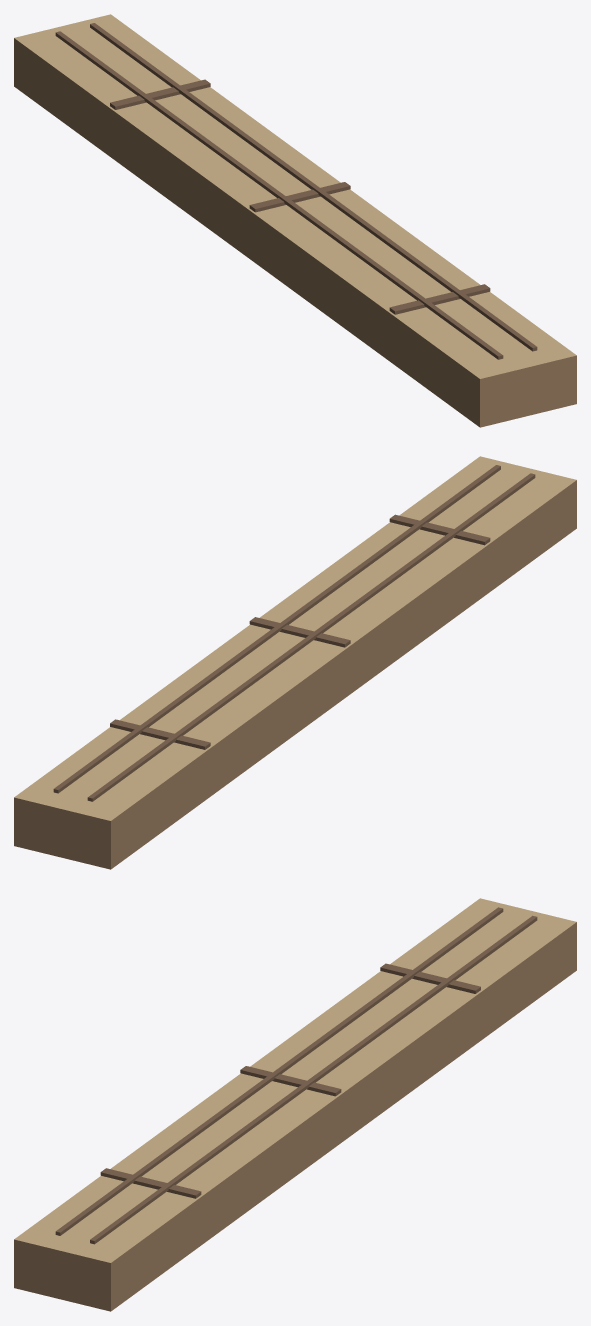
The model's file is edge_plank_border_2m.glb.
3 views of the same model, one above another, from view 1: azimuth 30°, elevation 25°; view 2: azimuth 150°, elevation 25°; view 3: azimuth 330°, elevation 25° (orthographic).
Parts seen in each view (by area): view 1: edge_plank_border_2m; view 2: edge_plank_border_2m; view 3: edge_plank_border_2m.
Part boxes in pixels (<box>): edge_plank_border_2m: <box>14,14,576,427</box>; edge_plank_border_2m: <box>14,456,576,869</box>; edge_plank_border_2m: <box>14,898,576,1311</box>.
Size of the model in its own units: 0.24 by 0.131 by 2.
